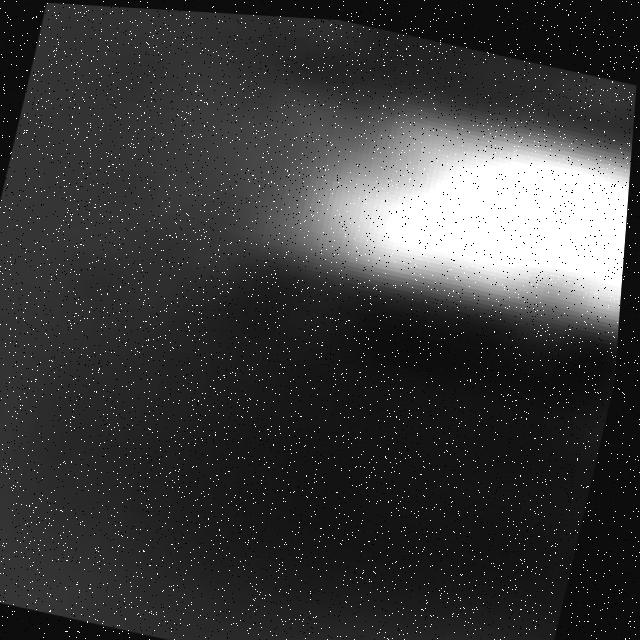person: (178, 22, 640, 372)
